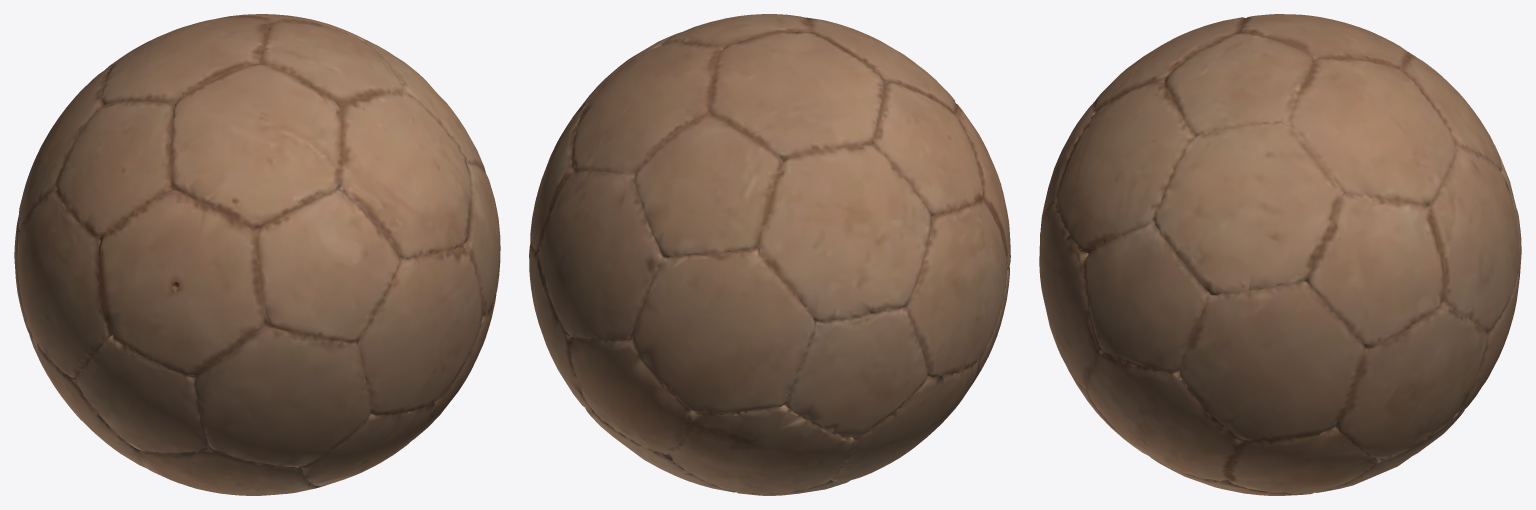
Rendered from dirty_football.690c3504.glb.
The picture shows the model from 3 angles, left to right: view 1: azimuth 30°, elevation 25°; view 2: azimuth 150°, elevation 25°; view 3: azimuth 270°, elevation 25°; orthographic projection.
Parts seen in each view (by area): view 1: dirty_football; view 2: dirty_football; view 3: dirty_football.
Boxes of the visible parts, x1,y1,x2,y2 form: dirty_football: [14, 14, 500, 495]; dirty_football: [529, 14, 1010, 495]; dirty_football: [1039, 14, 1521, 495].
Bounding box in the file's own units: 0.7238 × 0.7204 × 0.72.
Materials: 1 (1 with a texture image).
